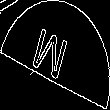M_S: (34, 23, 76, 87)
